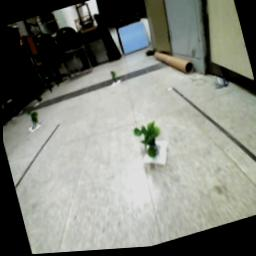herb: (131, 121, 166, 164), (26, 108, 40, 129)
